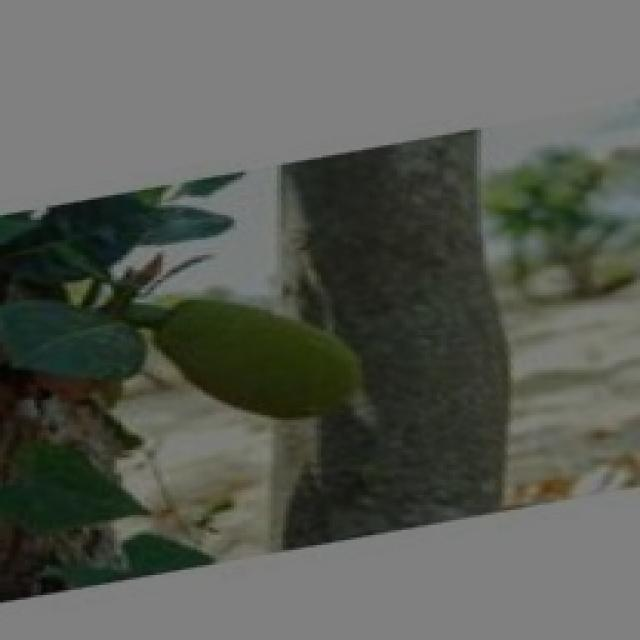Fruit: (132, 272, 385, 450)
